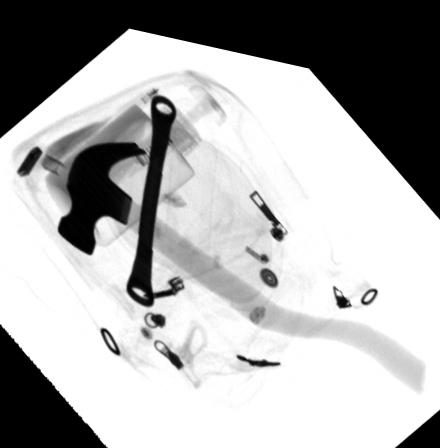Hammer: (56, 133, 424, 376)
Wrench: (124, 86, 176, 302)
